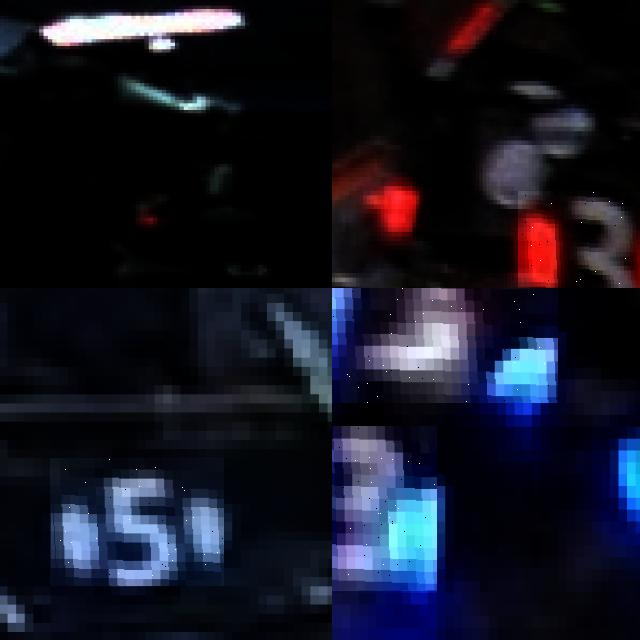B3: (332, 288, 558, 403), (332, 426, 437, 592)
B5: (50, 458, 224, 586)
R3: (518, 191, 640, 288)
